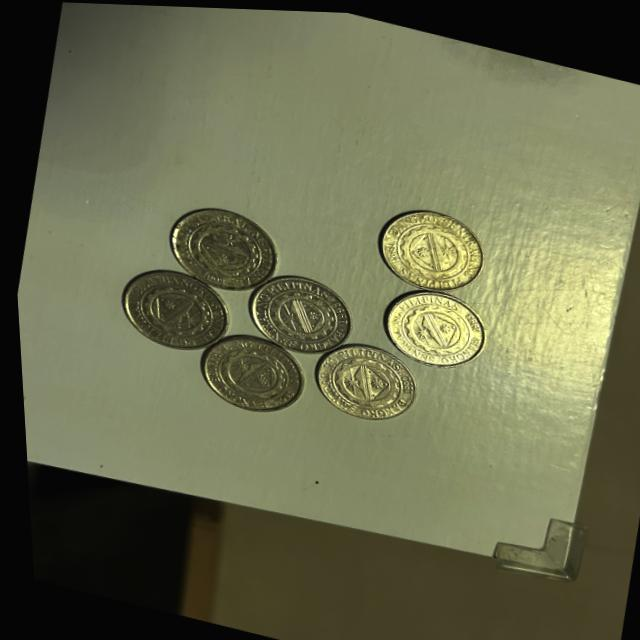1_Old_Back: (169, 206, 266, 287), (122, 268, 220, 345), (378, 209, 477, 282), (250, 272, 339, 348), (386, 289, 476, 361), (203, 336, 295, 406), (321, 344, 403, 411)
